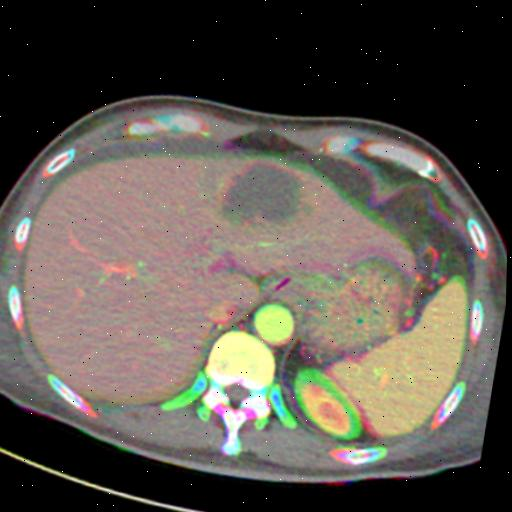Tumor: (225, 159, 300, 219)
